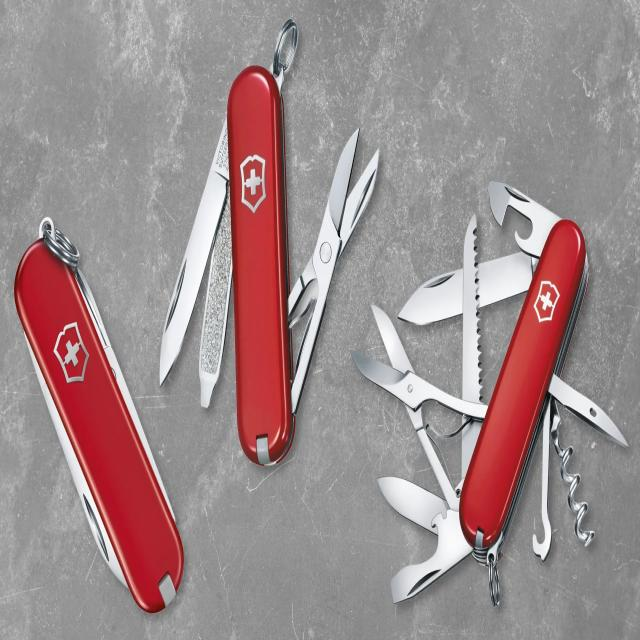knife victorinox: (371, 128, 638, 606), (183, 52, 355, 469), (5, 230, 189, 616)
